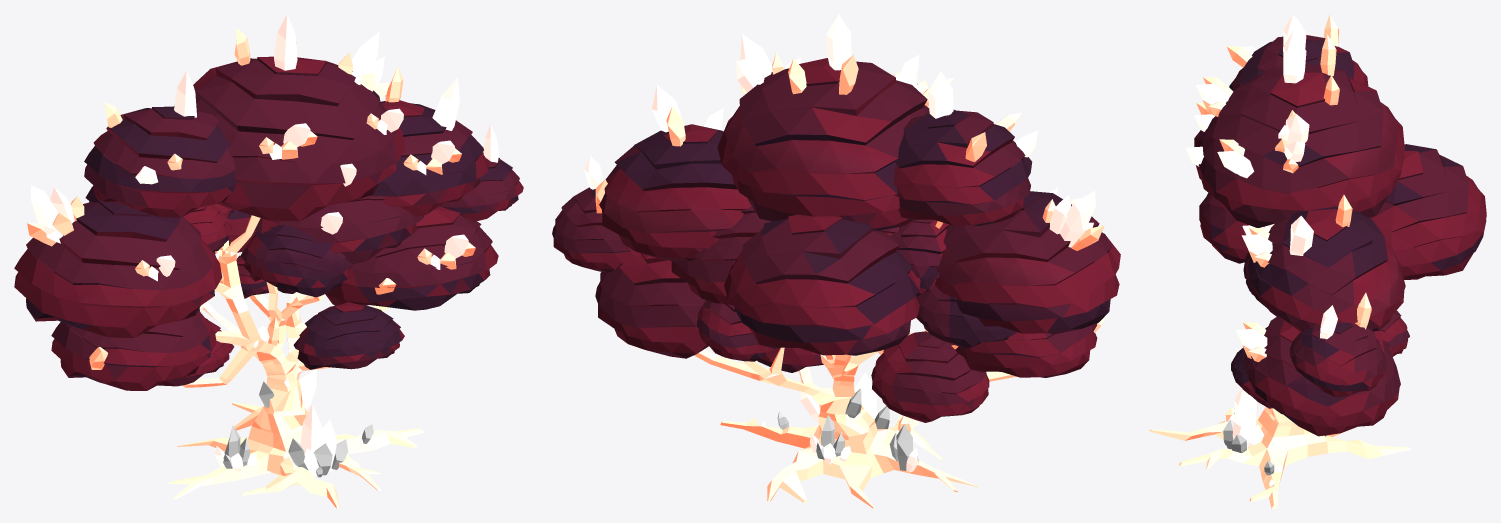
Rendered from yggdrasil.fbx.
3 renders of one model, left to right at view 1: azimuth 30°, elevation 25°; view 2: azimuth 150°, elevation 25°; view 3: azimuth 270°, elevation 25°, orthographic. The views are drawn at different scales.
Visible parts, largest first — view 1: Cylinder.011; view 2: Cylinder.011; view 3: Cylinder.011.
Part boxes in pixels (x1=…): Cylinder.011: x1=14, y1=14, x2=523, y2=508; Cylinder.011: x1=552, y1=14, x2=1120, y2=508; Cylinder.011: x1=1149, y1=14, x2=1486, y2=508.
Bounding box in the file's own units: 2978 × 2463 × 1776.
